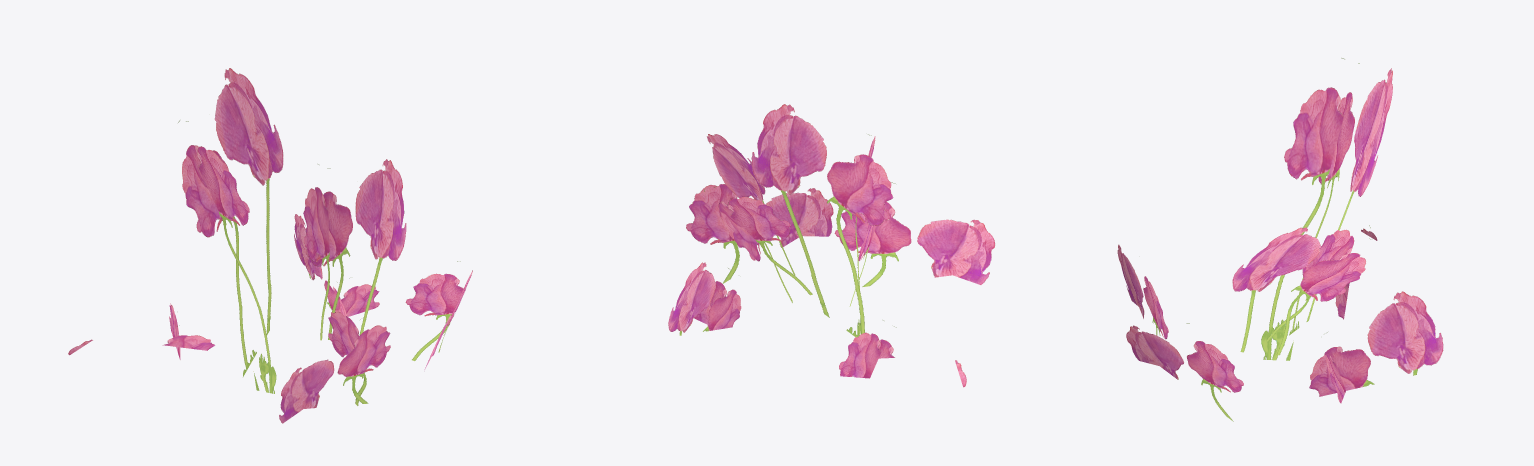
The picture shows the model from 3 angles, left to right: view 1: azimuth 30°, elevation 25°; view 2: azimuth 150°, elevation 25°; view 3: azimuth 270°, elevation 25°; orthographic projection. The views are drawn at different scales.
Parts seen in each view (by area): view 1: 29647af1; view 2: 29647af1; view 3: 29647af1.
Boxes of the visible parts, x1,y1,x2,y2 form: 29647af1: (68,68,472,423); 29647af1: (668,104,995,387); 29647af1: (1117,58,1443,421).
Size of the model in its own units: 0.1501 by 0.0977 by 0.1126.
1 material, 1 textured.
